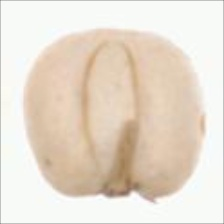L5: (78, 39, 139, 184), (66, 182, 169, 206)
L6: (21, 27, 207, 206)
